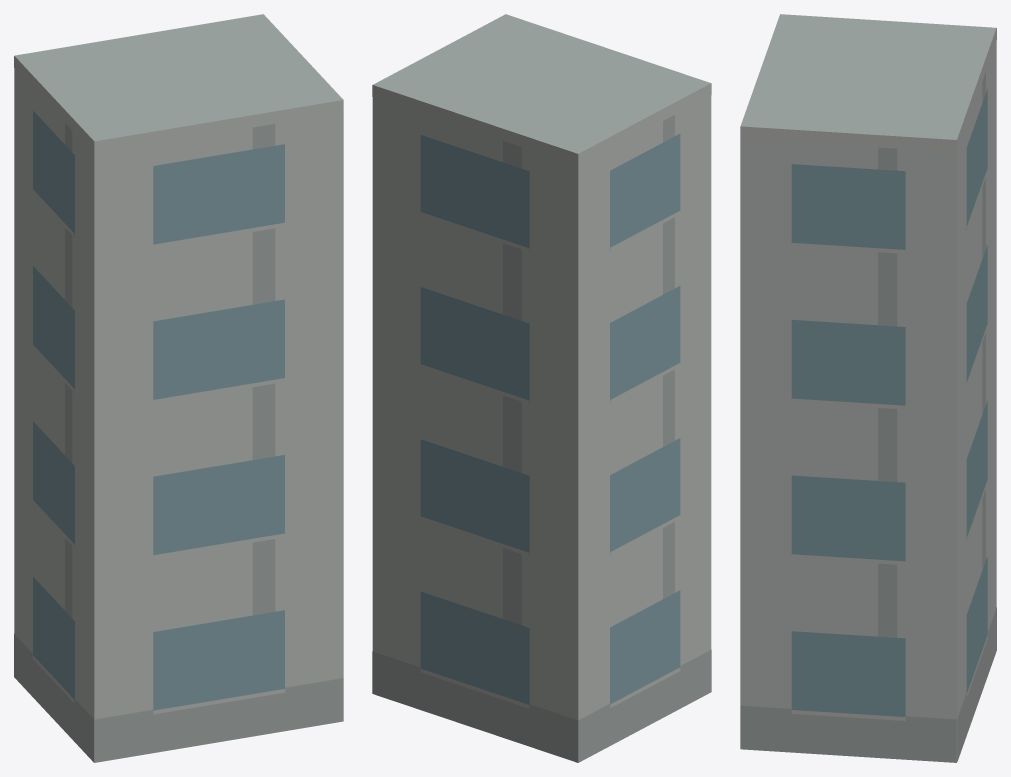
File: survey-upis-32697719.glb
3 renders of one model, left to right at view 1: azimuth 30°, elevation 25°; view 2: azimuth 150°, elevation 25°; view 3: azimuth 270°, elevation 25°, orthographic. The views are drawn at different scales.
Parts seen in each view (by area): view 1: survey-upis-32697719.tmp; view 2: survey-upis-32697719.tmp; view 3: survey-upis-32697719.tmp.
Part boxes in pixels (bbox=[...]): survey-upis-32697719.tmp: bbox=[14, 14, 343, 762]; survey-upis-32697719.tmp: bbox=[372, 14, 711, 762]; survey-upis-32697719.tmp: bbox=[740, 14, 996, 762].
Size of the model in its own units: 5.3 by 12.2 by 4.56.
